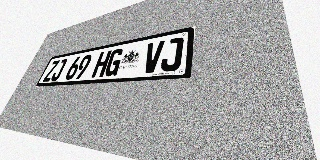6: (64, 56, 83, 80)
9: (73, 54, 93, 79)
G: (103, 48, 125, 77)
H: (91, 50, 112, 78)
J: (159, 37, 184, 72), (50, 59, 68, 81)
V: (141, 40, 165, 74)
Z: (42, 60, 60, 82)
